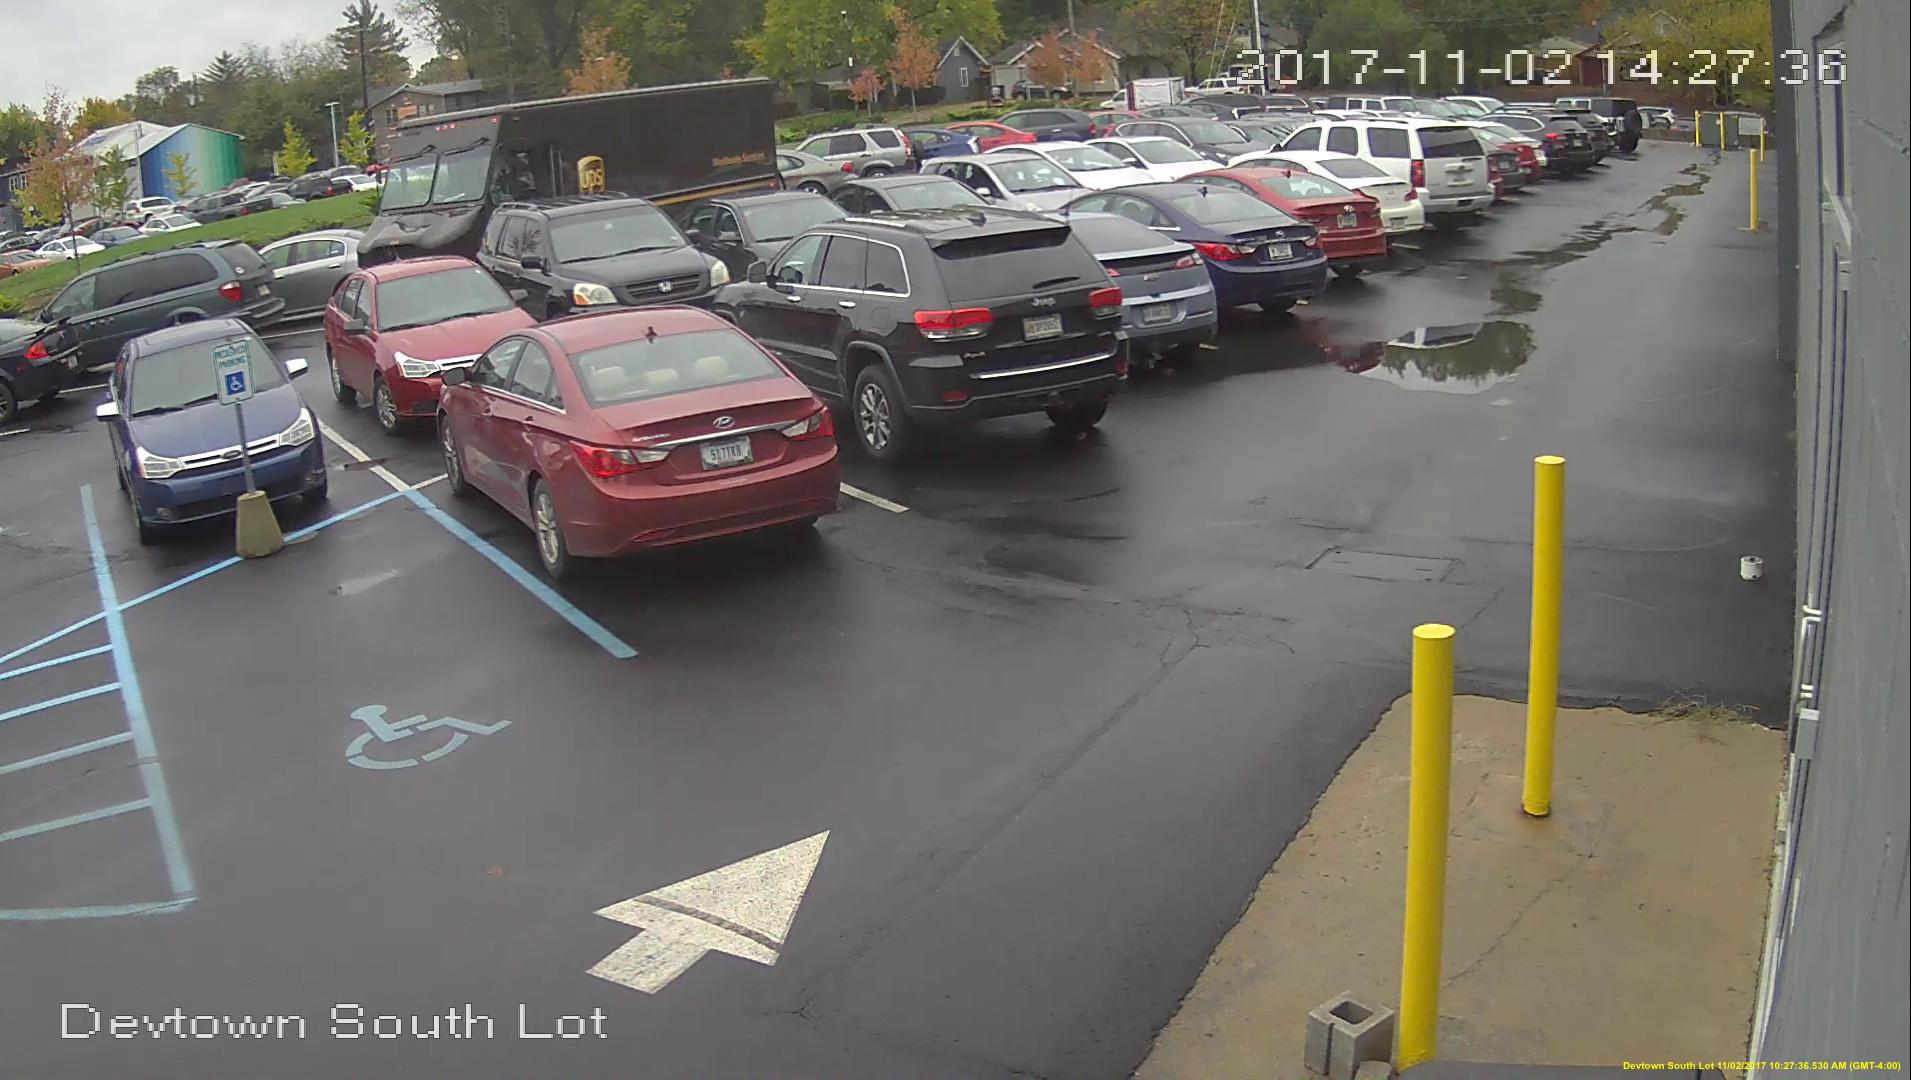ups_truck: (371, 98, 782, 224)
